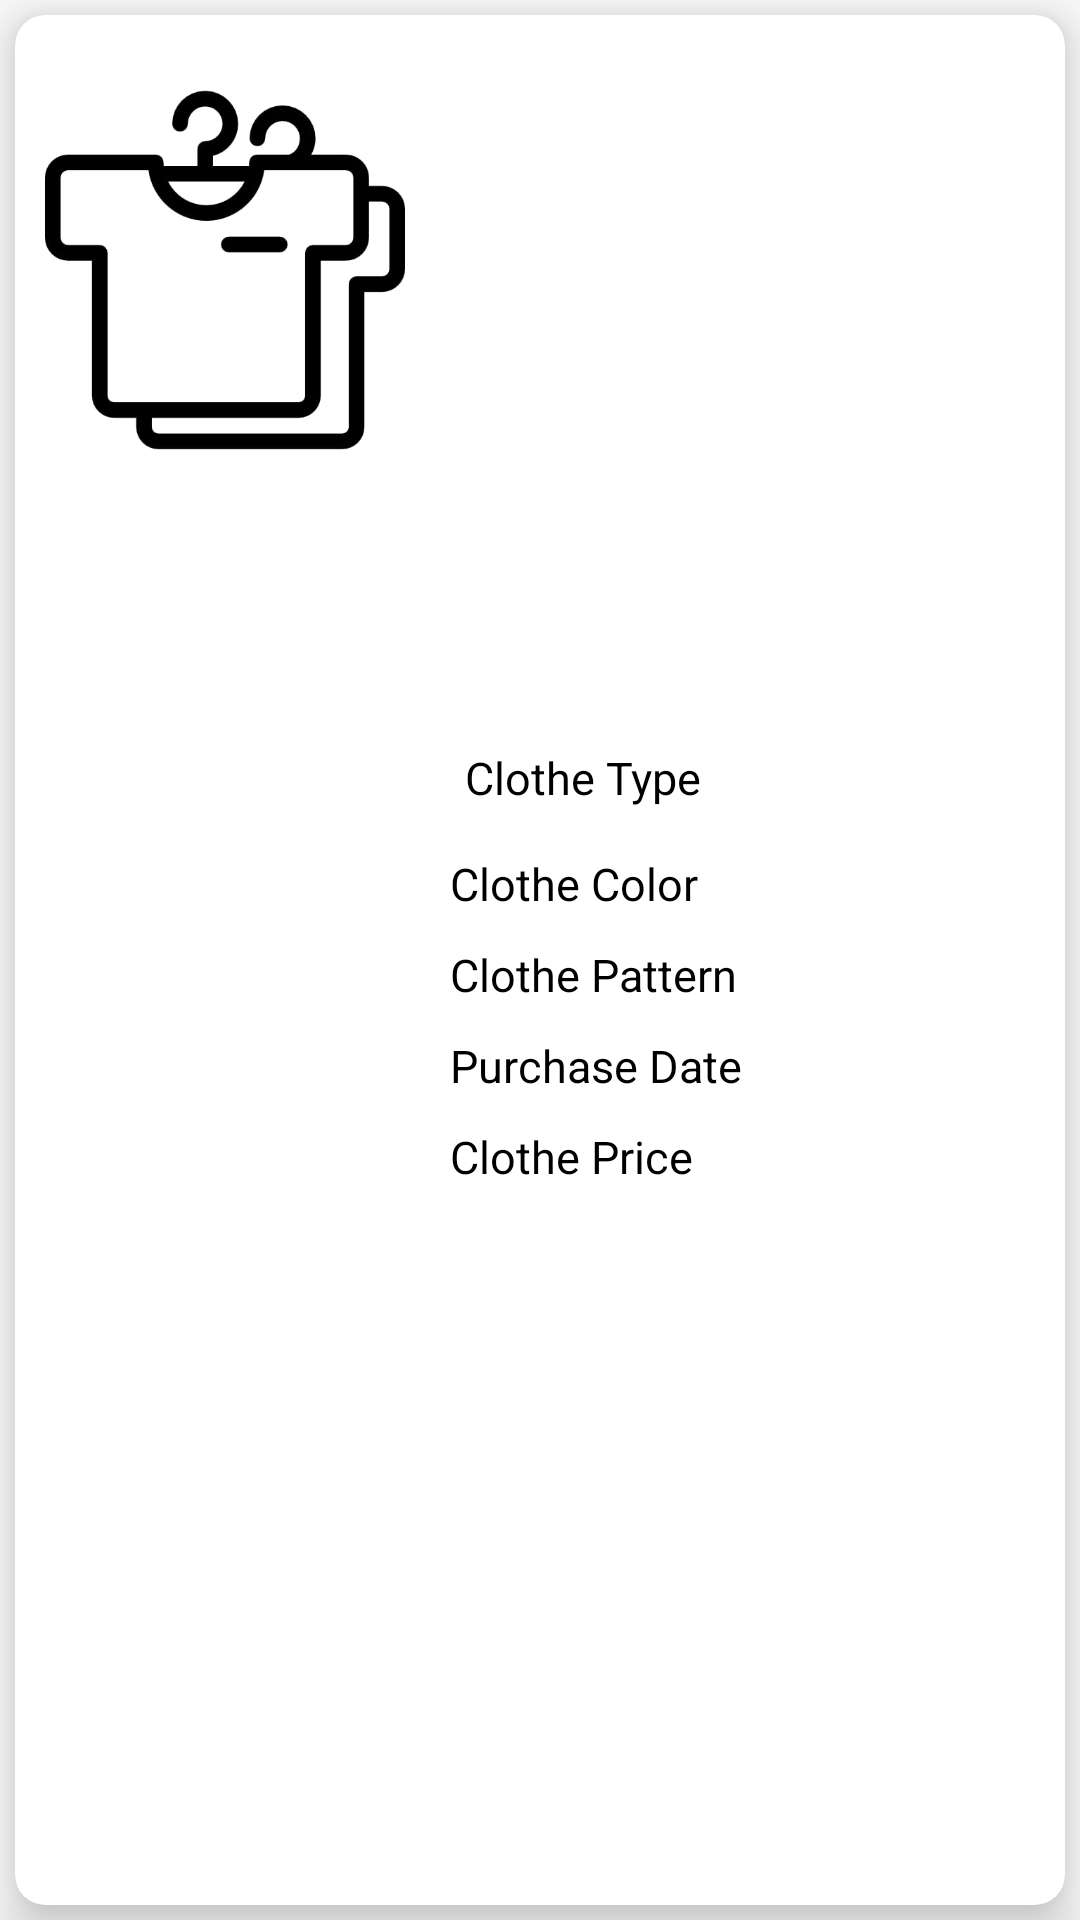

Screen size 1080px x 1920px. Icon name, then its box in pixels as (x1, y1, x2, y2):
clothe: (45, 90, 405, 450)
